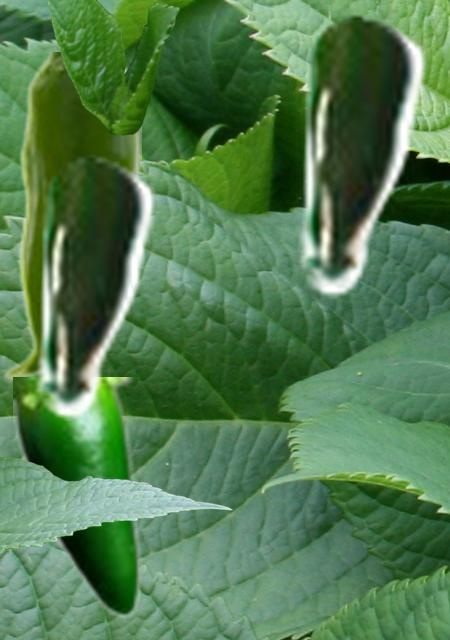green_chili: (0, 52, 140, 382), (291, 11, 427, 297), (29, 153, 156, 419), (13, 377, 141, 618)
